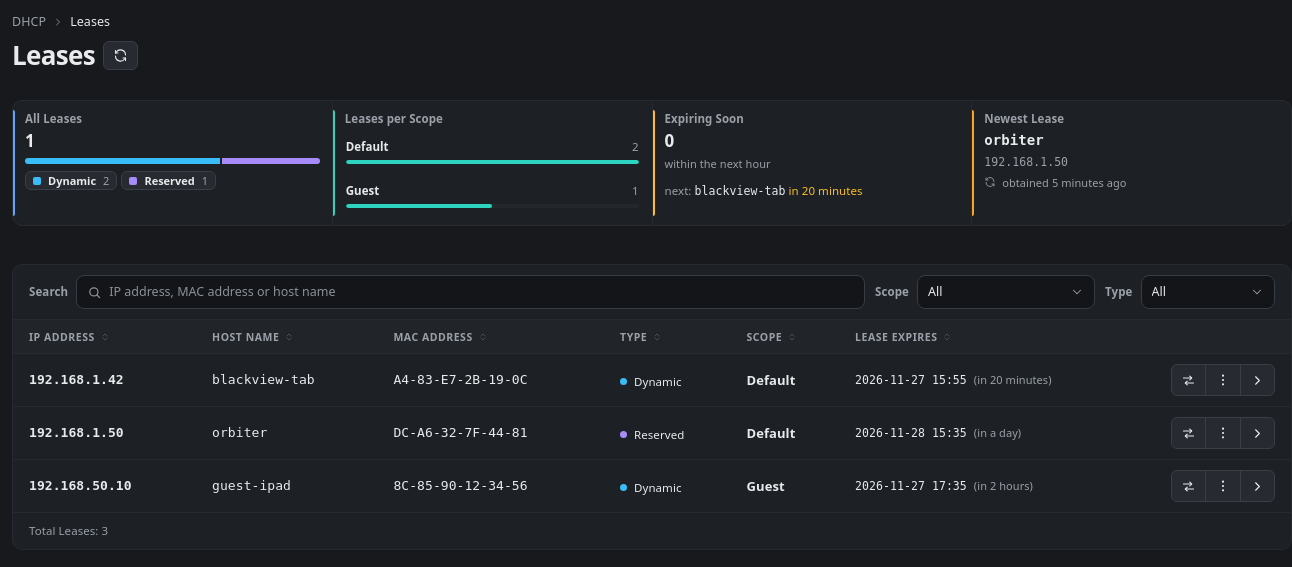
Test: Leases at a glance › pressing a type filters the table as the Type field does, and pressing it again clears it
The width and height of the screenshot is (1292, 567).
expect the cell "192.168.1.42" is shown: met, box x1=13 y1=354 x2=200 y2=407
Click the button "Reserved 1" at {"x": 169, "y": 180}, box x1=121 y1=171 x2=216 y2=190
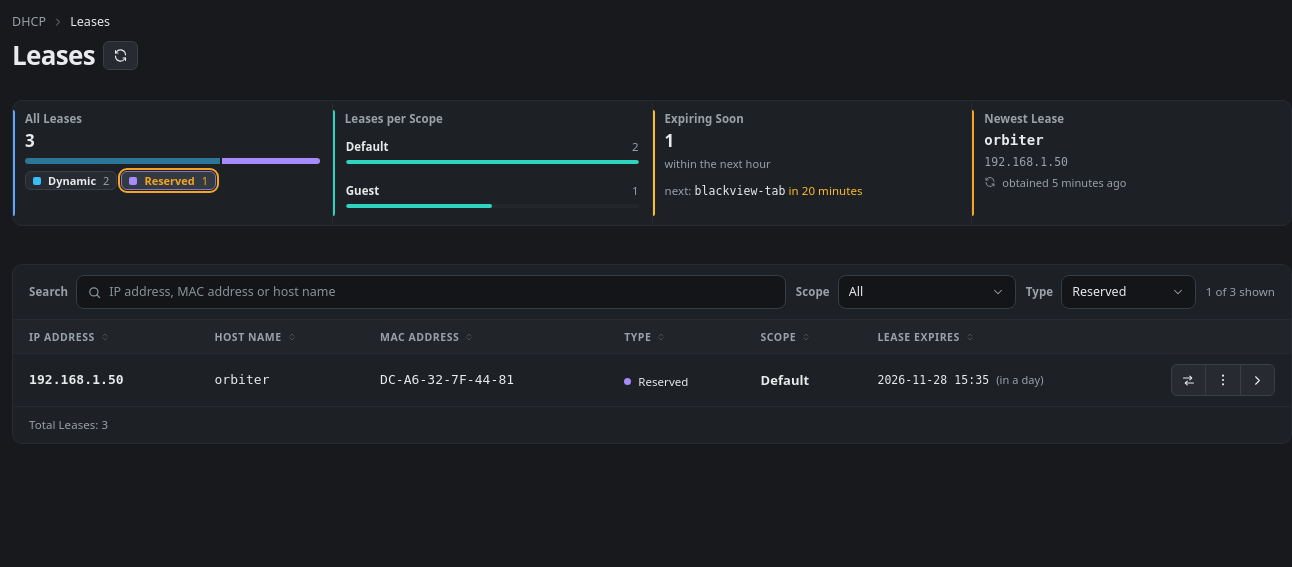
expect the row that starts with "orbiter" shows "192.168.1.50": met, box x1=29 y1=372 x2=124 y2=387
expect the text "1 of 3 shown" is shown: met, box x1=1206 y1=283 x2=1275 y2=301
Click the button "Reserved 1" at {"x": 169, "y": 180}, box x1=121 y1=171 x2=216 y2=190
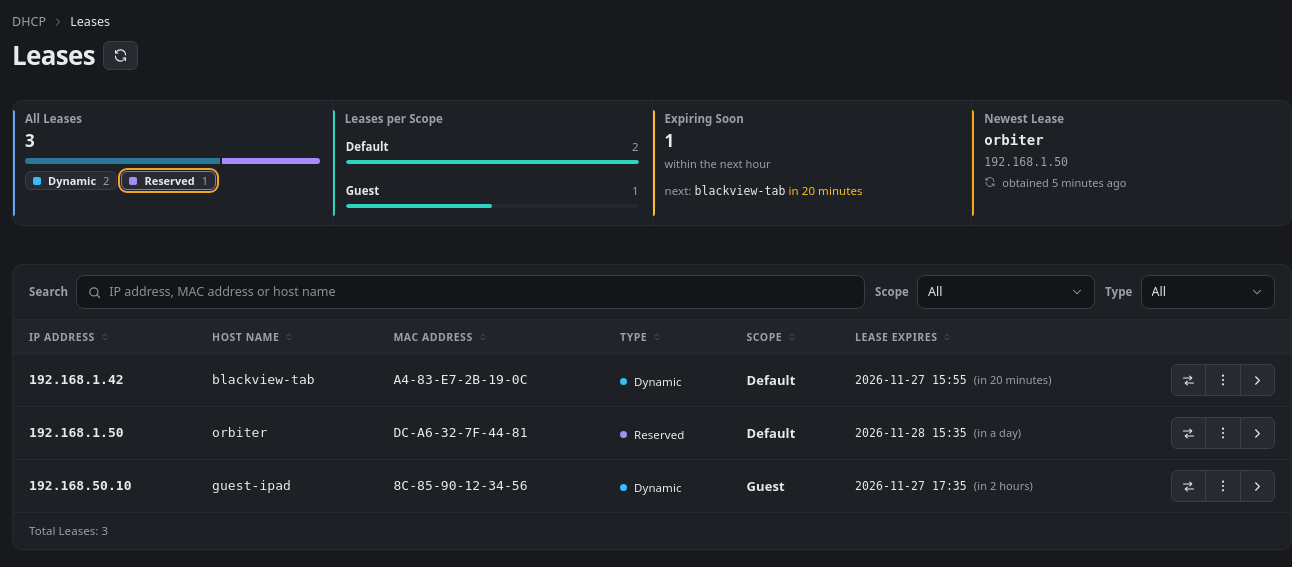
expect the text "of 3 shown" is gone: met
